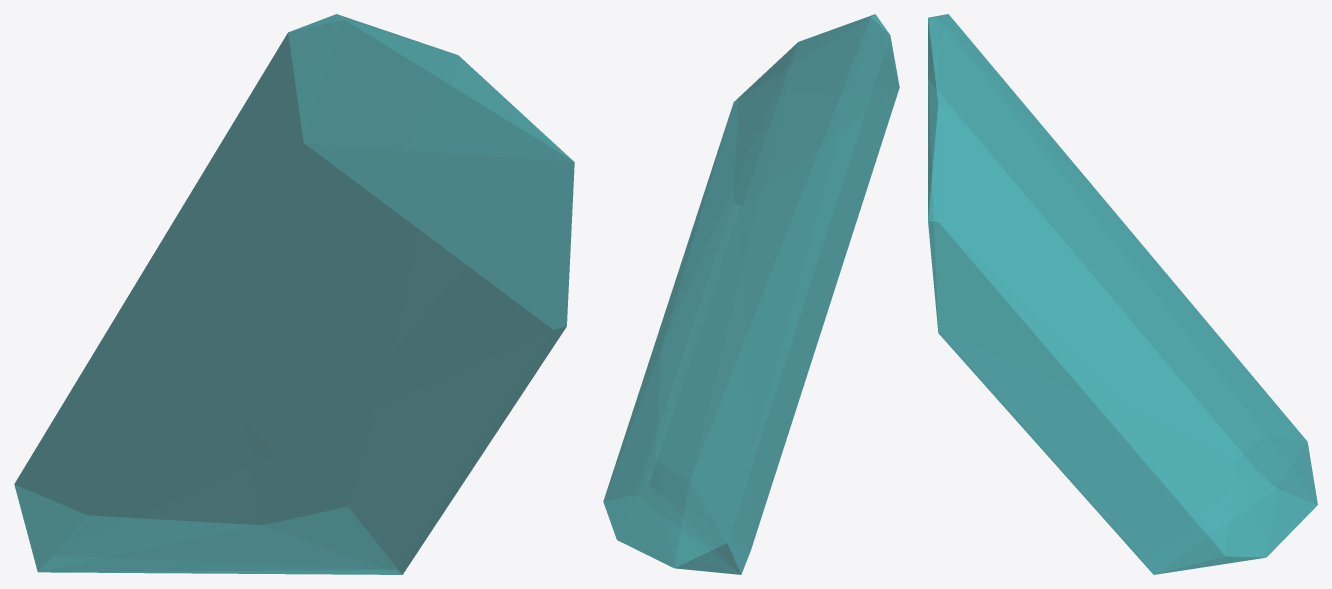
3 renders of one model, left to right at view 1: azimuth 30°, elevation 25°; view 2: azimuth 150°, elevation 25°; view 3: azimuth 270°, elevation 25°, orthographic. The views are drawn at different scales.
Parts seen in each view (by area): view 1: Shape_IndexedFaceSet.026_Shape_IndexedFaceSet.9834; view 2: Shape_IndexedFaceSet.026_Shape_IndexedFaceSet.9834; view 3: Shape_IndexedFaceSet.026_Shape_IndexedFaceSet.9834.
Boxes of the visible parts, box(x1,y1,x2,y2) form: Shape_IndexedFaceSet.026_Shape_IndexedFaceSet.9834: box(14, 14, 574, 574); Shape_IndexedFaceSet.026_Shape_IndexedFaceSet.9834: box(603, 14, 899, 574); Shape_IndexedFaceSet.026_Shape_IndexedFaceSet.9834: box(928, 14, 1317, 574).
Size of the model in its own units: 0.1136 by 0.2953 by 0.2158.
